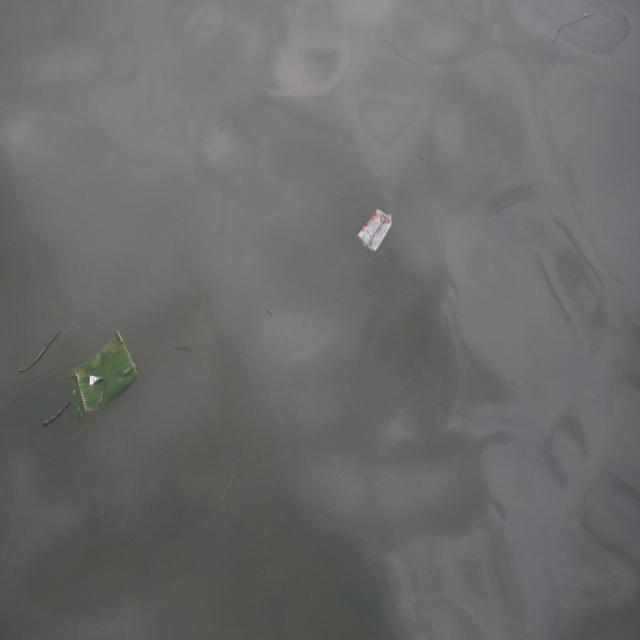Bungkus Makanan: (358, 208, 394, 255)
